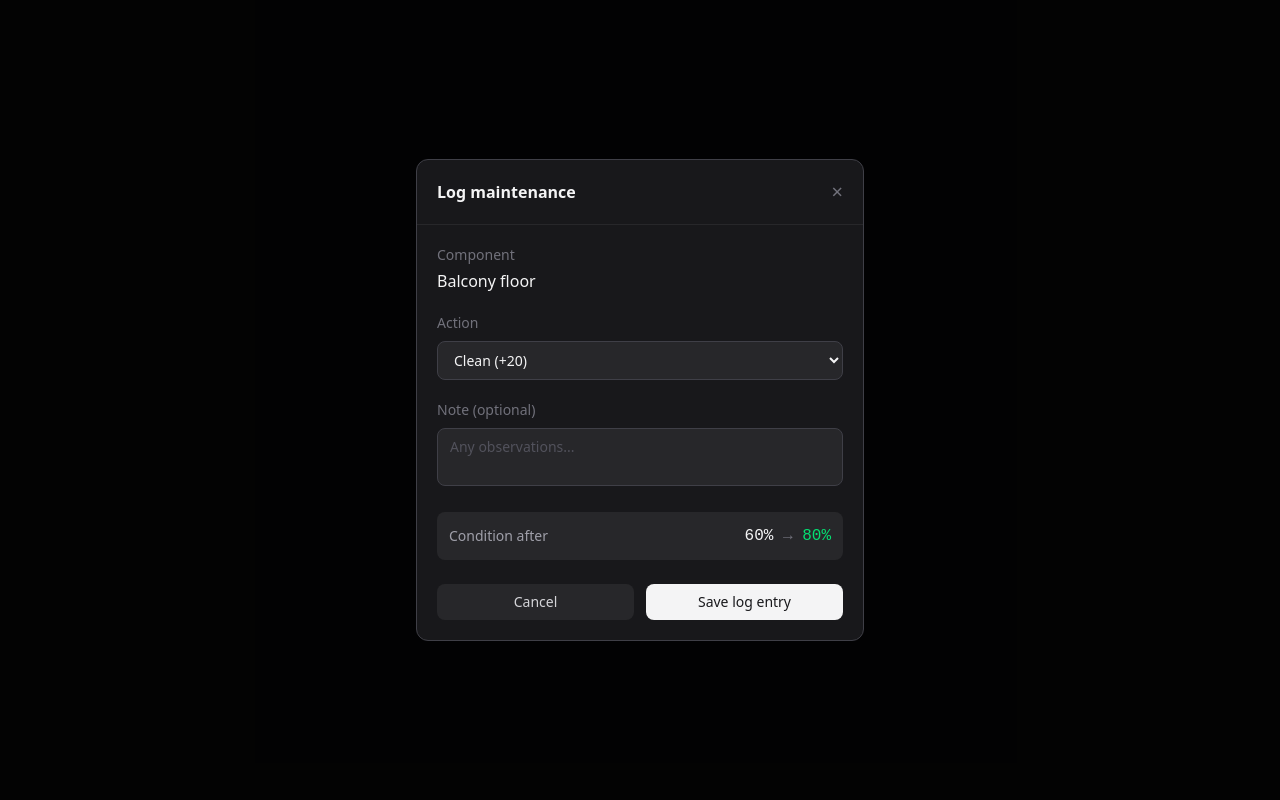
LogActionModal › updates the condition preview when a different action is selected
Select "Replace (+40)" in the dropdown: {"x": 640, "y": 360} [437,341,843,380]
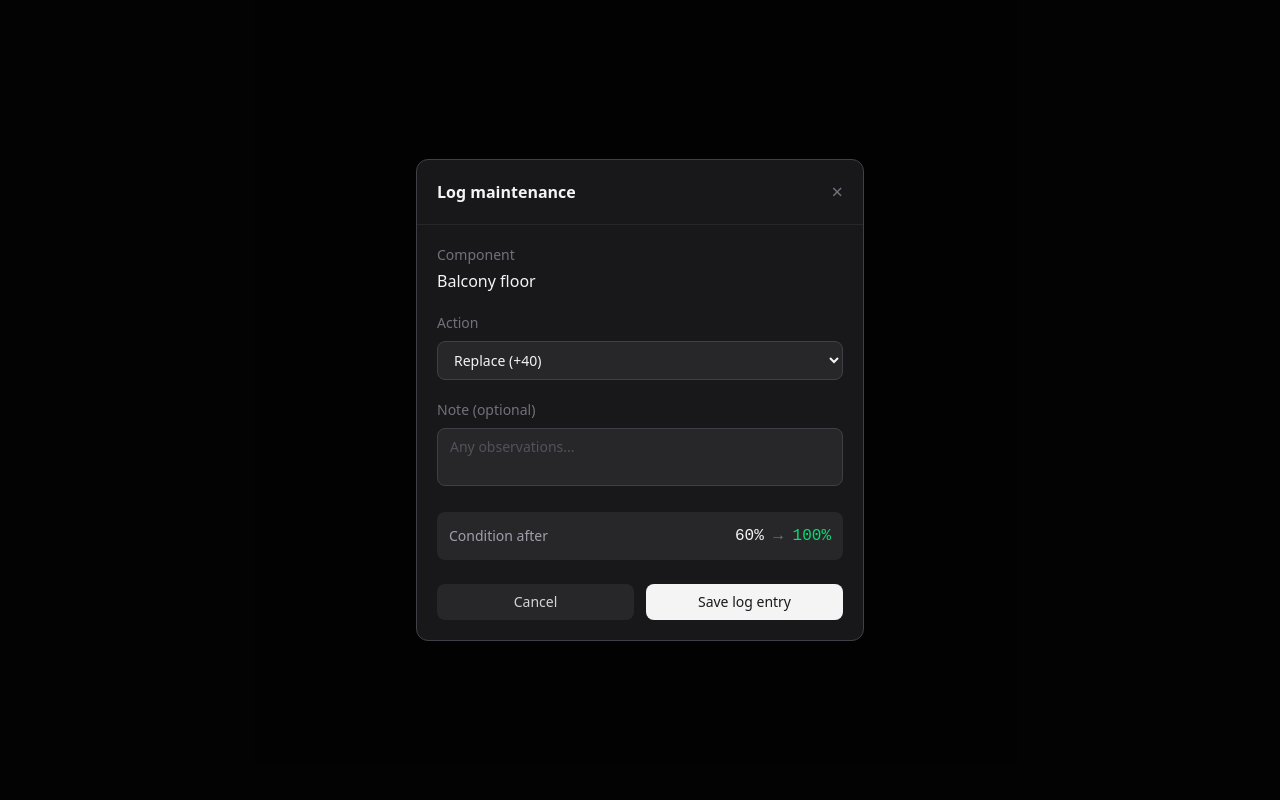
Now the text "100%" is shown, box [793,527,831,545]
